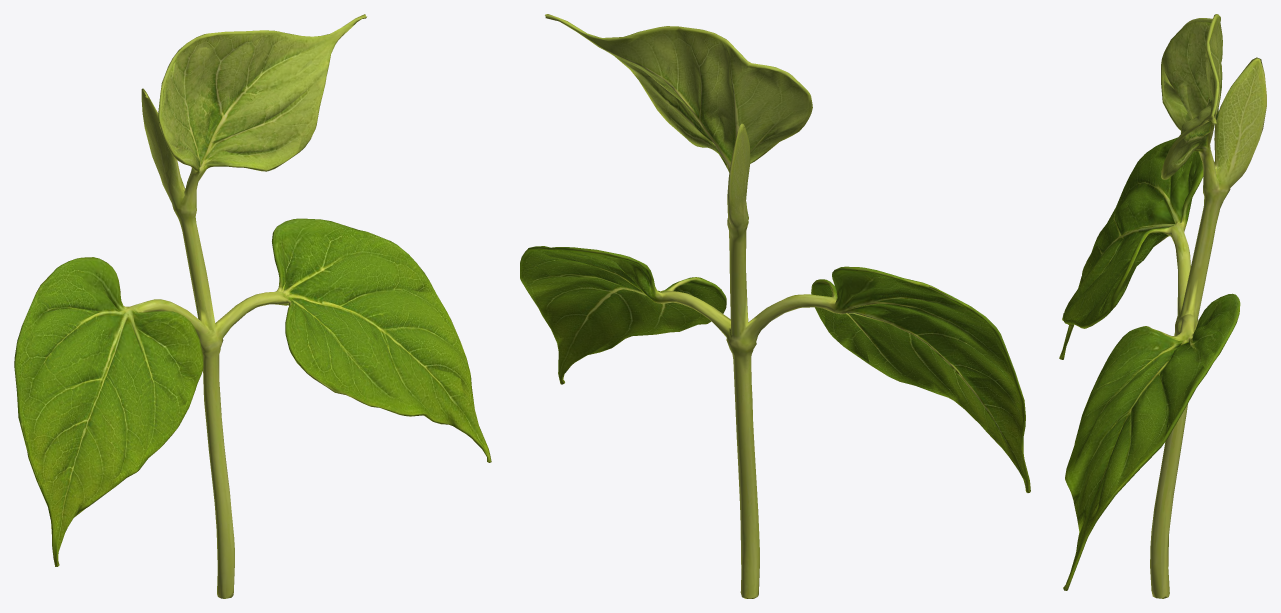
File: bean-v1.glb
3 views of the same model, side by side, from view 1: azimuth 30°, elevation 25°; view 2: azimuth 150°, elevation 25°; view 3: azimuth 270°, elevation 25° (orthographic). The views are drawn at different scales.
Visible parts, largest first — view 1: bean_plant; view 2: bean_plant; view 3: bean_plant.
Boxes of the visible parts, x1=… form: bean_plant: x1=14, y1=14, x2=491, y2=598; bean_plant: x1=520, y1=14, x2=1030, y2=598; bean_plant: x1=1059, y1=14, x2=1266, y2=598.
Size of the model in its own units: 0.2078 by 0.24 by 0.0776.
1 material, 1 textured.
